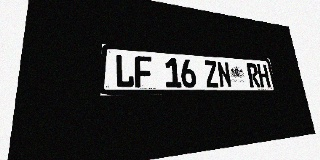1: (164, 58, 182, 88)
6: (180, 59, 197, 88)
F: (134, 55, 153, 88)
H: (256, 64, 271, 88)
L: (115, 54, 134, 88)
N: (216, 61, 232, 88)
R: (246, 63, 261, 88)
Z: (203, 60, 220, 88)
